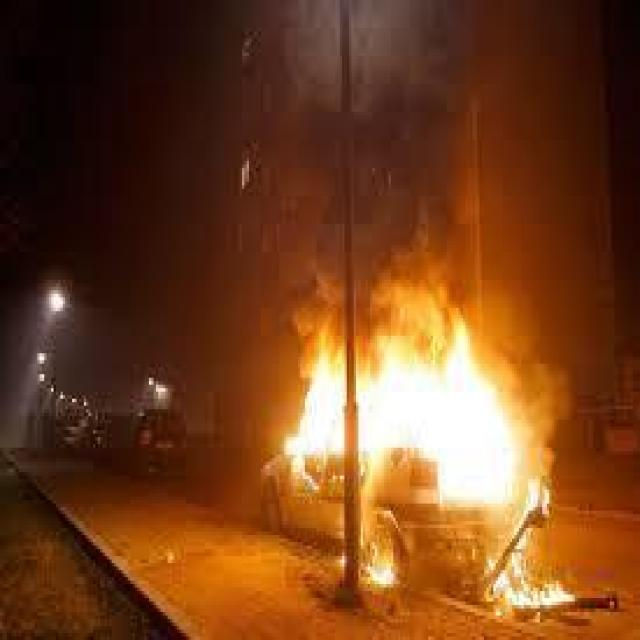fire: (235, 243, 590, 612)
